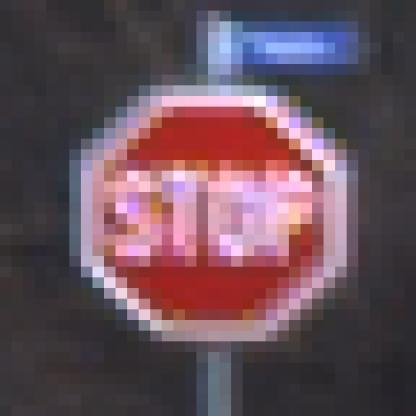Stop: (91, 98, 344, 336)
